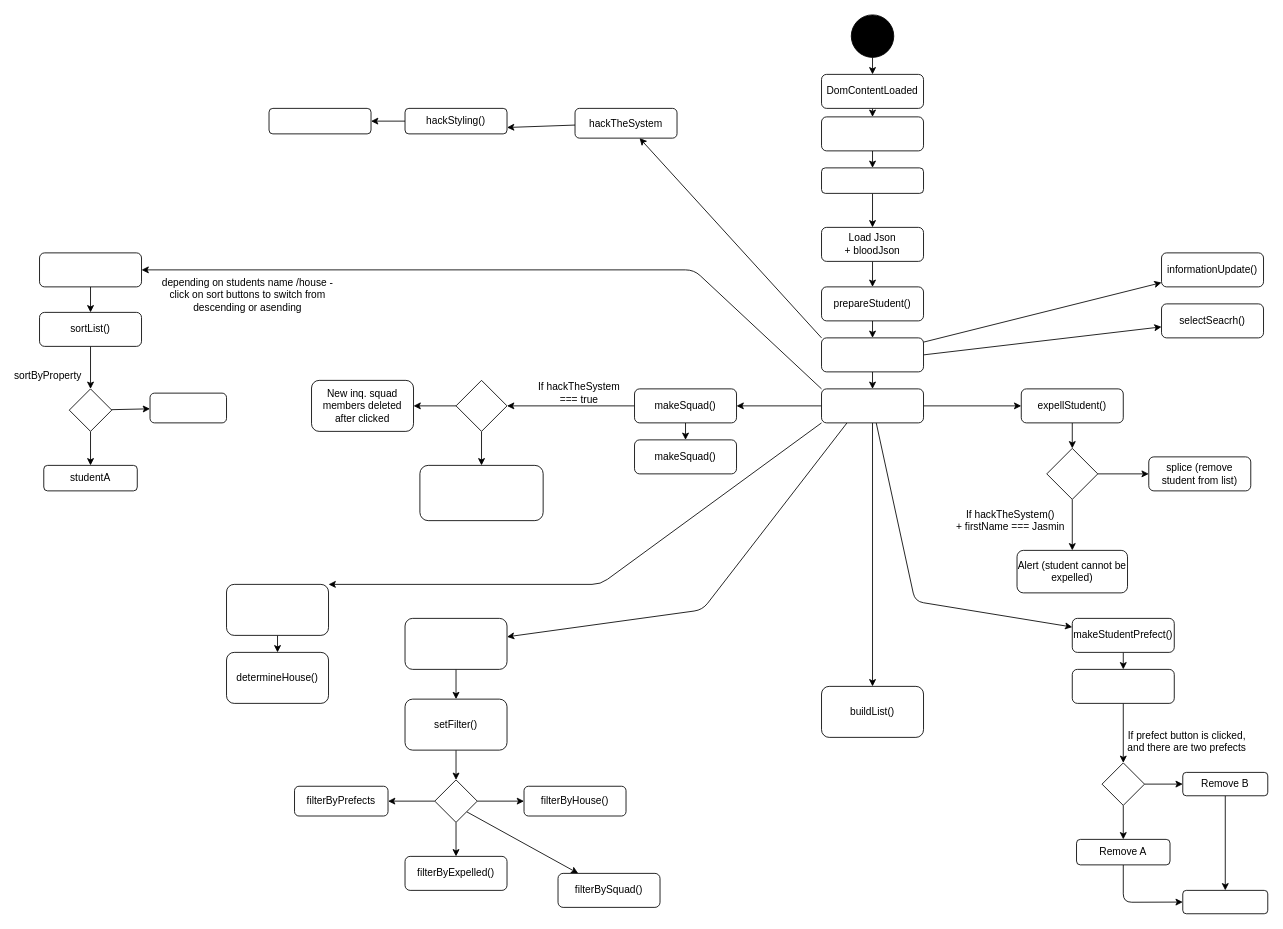
Some shapes in this 1283 by 929 pixel diagram are drawn without their labels. Each missing label, with the centre of its shape:
deleteAorB(): [1122,686]
displayList(): [872,354]
displayStudent(): [872,405]
Init(): [872,133]
insertNewStudent(): [319,121]
prepareHouse(): [277,609]
registerButtons(): [872,180]
removePrefect: [1225,902]
selectFilter(): [455,643]
selectSort(): [90,269]
Slytherin + pureblood = prefect is no longer squad: [481,493]
studentB: [188,407]
